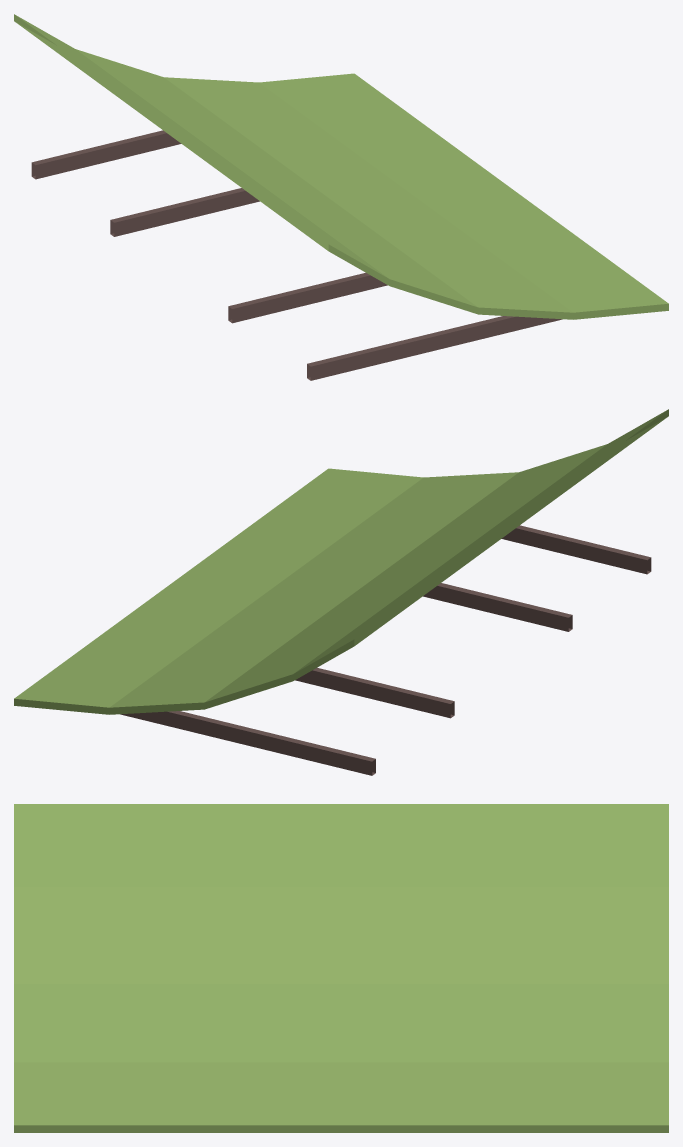
Rendered from awning.dae.
3 views of the same model, one above another, from view 1: azimuth 30°, elevation 25°; view 2: azimuth 150°, elevation 25°; view 3: azimuth 270°, elevation 25° (orthographic). The views are drawn at different scales.
Parts seen in each view (by area): view 1: mesh; view 2: mesh; view 3: mesh.
Boxes of the visible parts, left/top/right/bottom form: mesh: left=14, top=14, right=668, bottom=380; mesh: left=14, top=409, right=668, bottom=775; mesh: left=14, top=804, right=668, bottom=1132.
Size of the model in its own units: 5 by 8 by 2.1.
